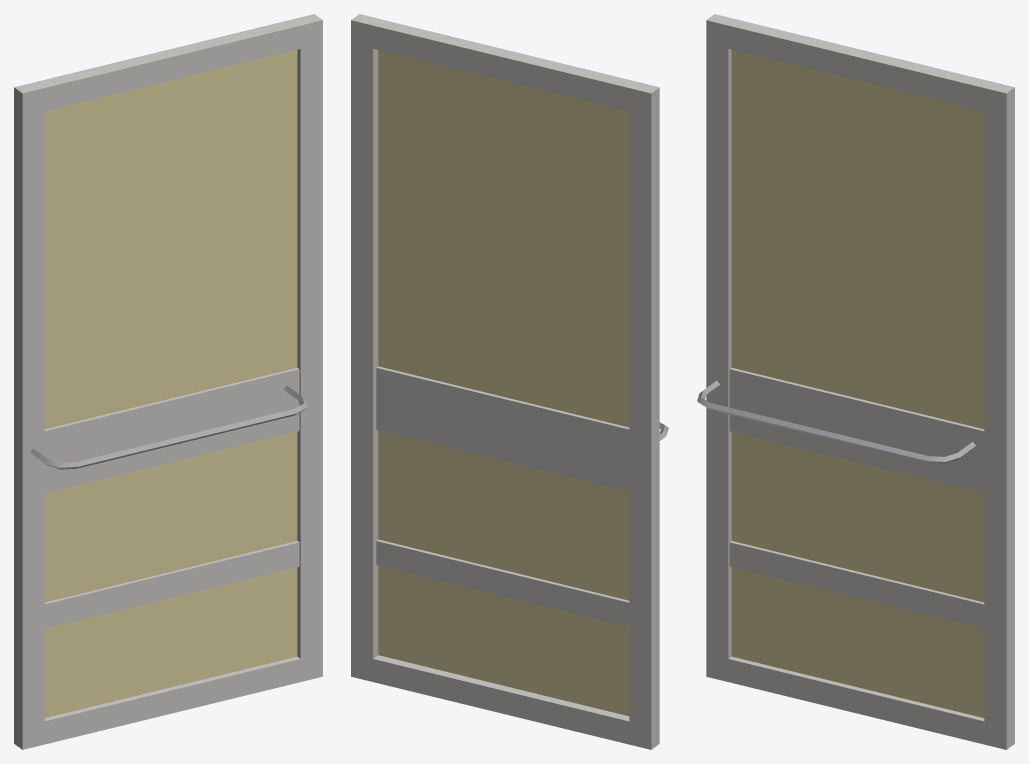
Rendered from SM_door_glass.fbx.
3 renders of one model, left to right at view 1: azimuth 30°, elevation 25°; view 2: azimuth 150°, elevation 25°; view 3: azimuth 330°, elevation 25°, orthographic.
Parts seen in each view (by area): view 1: Line023; view 2: Line023; view 3: Line023.
Part boxes in pixels (x1,y1,x2,y2): Line023: (14, 14, 322, 749); Line023: (351, 14, 668, 749); Line023: (697, 14, 1014, 749).
Bounding box in the file's own units: 54.54 × 11.02 × 114.
